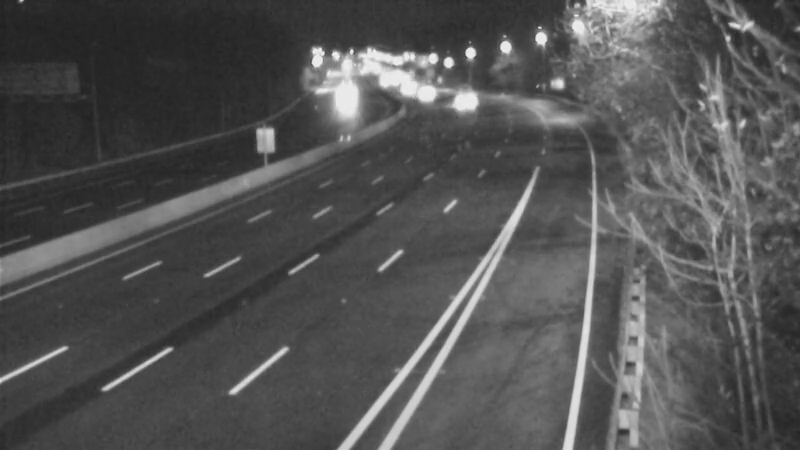vehicle: (382, 62, 432, 112), (401, 70, 451, 120), (434, 78, 484, 128), (318, 74, 368, 124)
